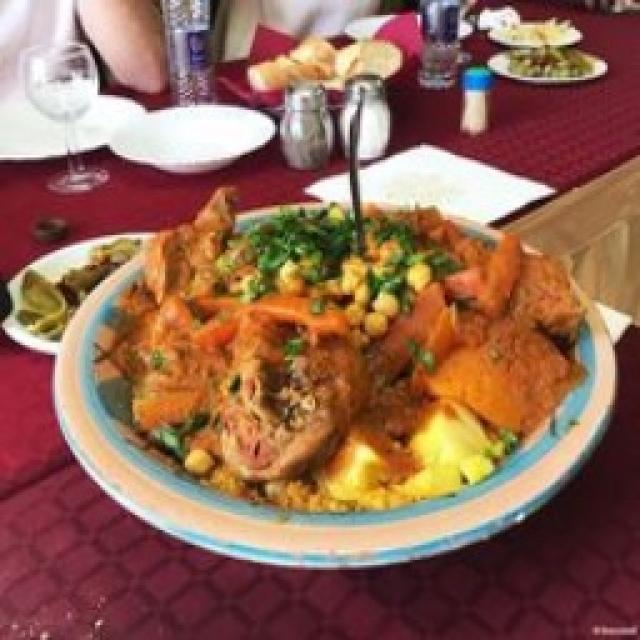Couscous: (95, 202, 588, 515)
